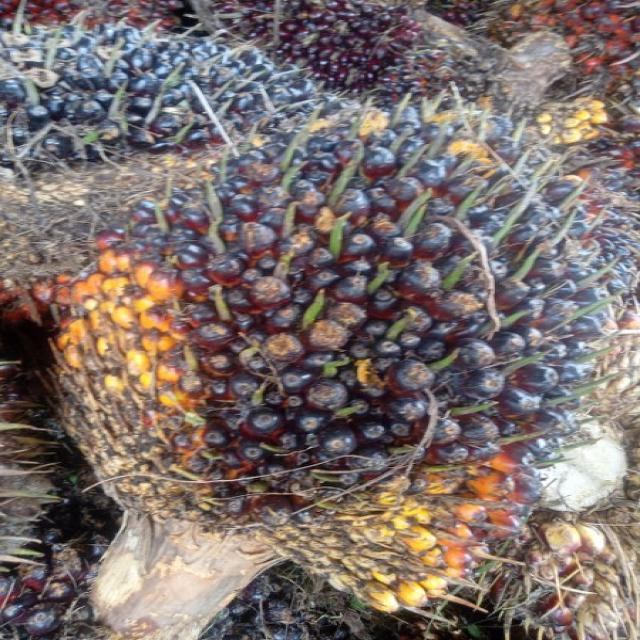fraksi 1: (76, 105, 604, 586)
